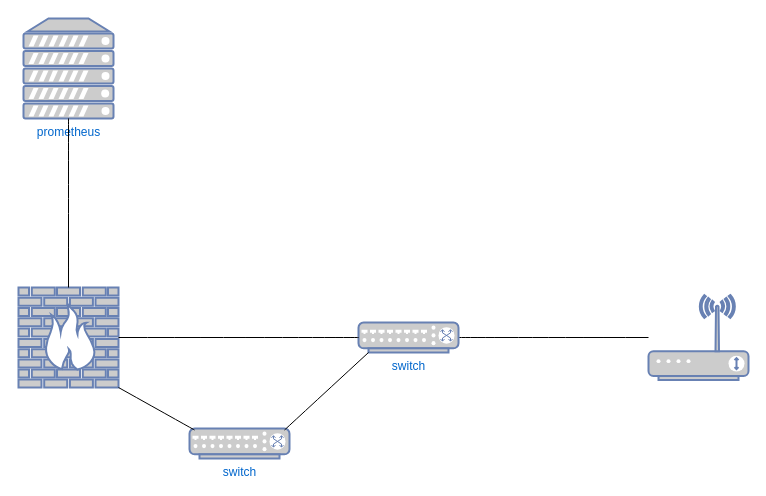
This 766x496 diagram has some shape labels left out. Each missing label, with the centre of its shape:
"ap wifi" goes at (x=698, y=337).
"firewall" goes at (x=68, y=337).
